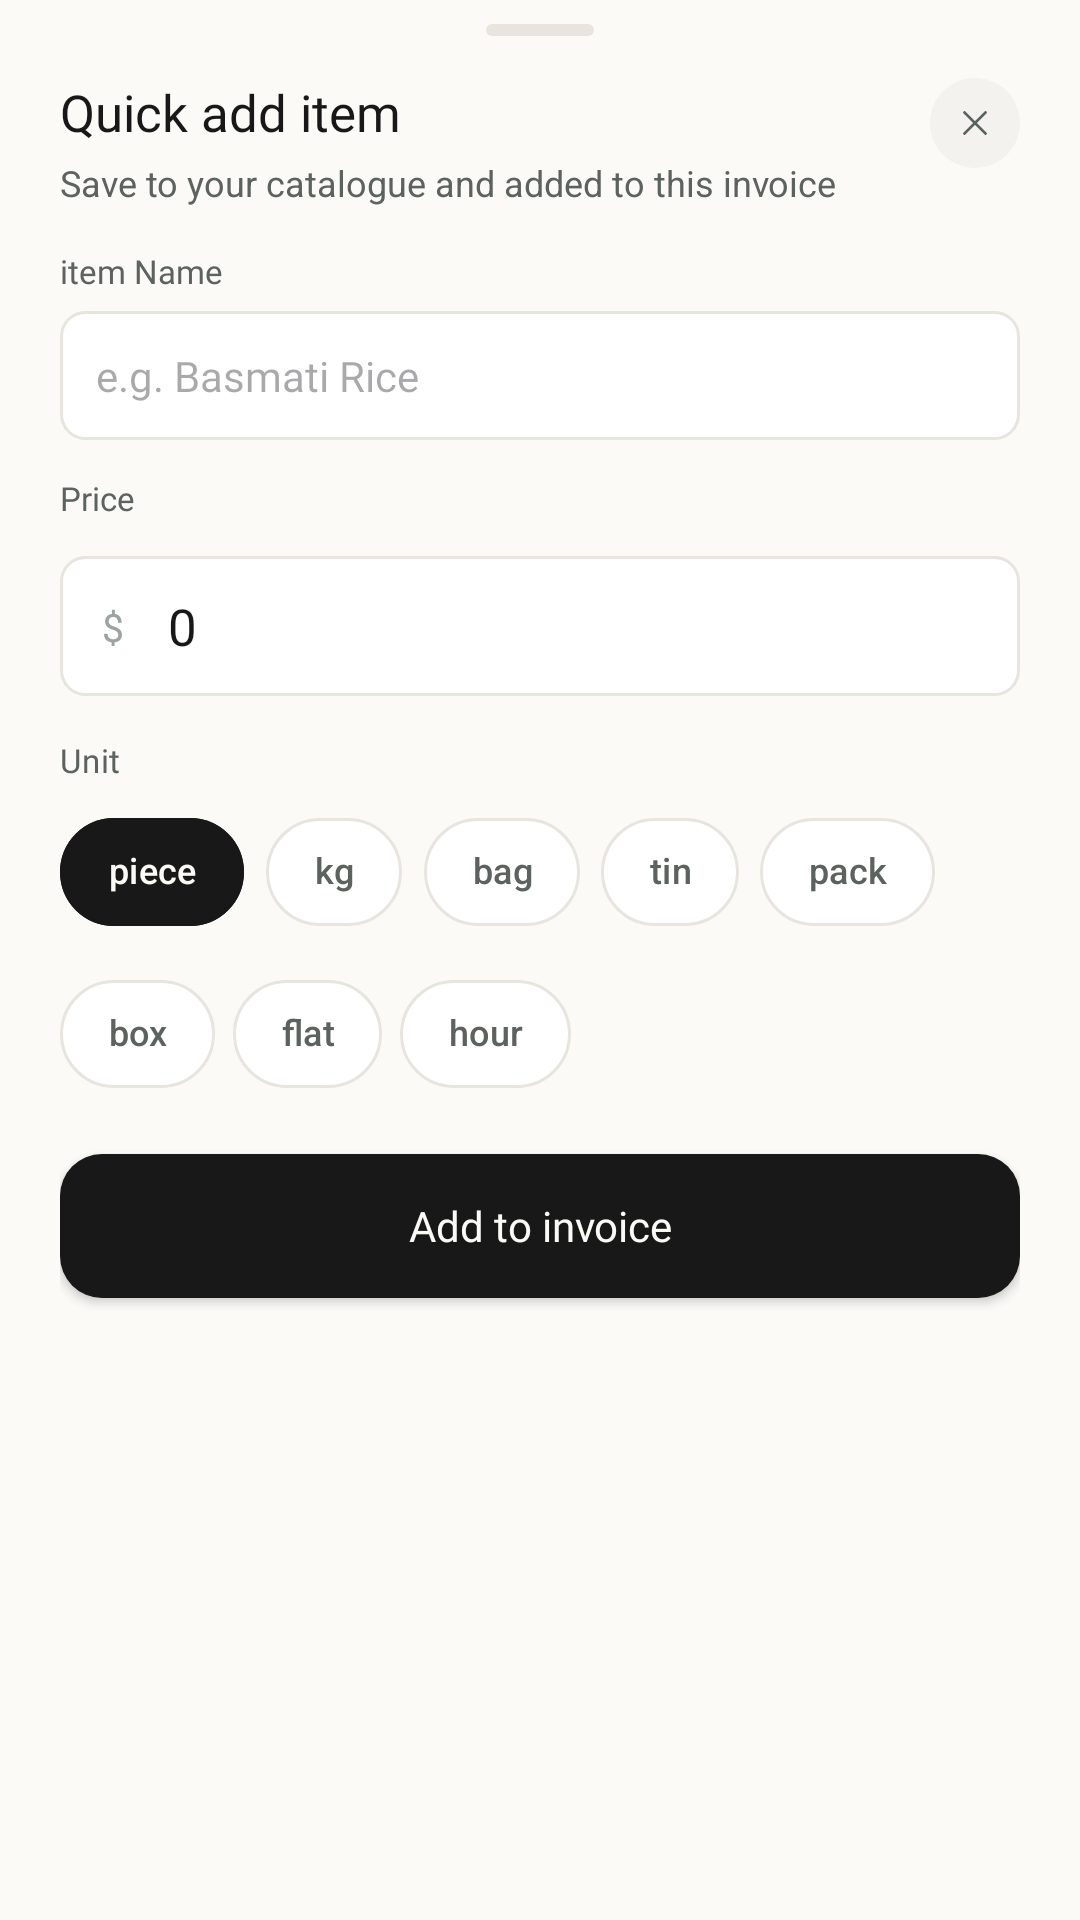

Icon bounding boxes for this 1080px×1920px phone screenshot, format (x1, y1, x2, y2):
Close: (930, 78, 1020, 168)
